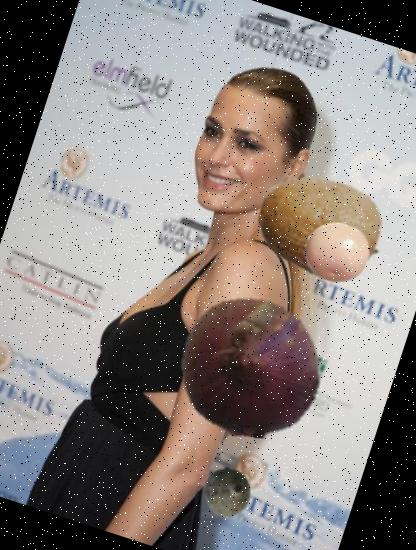Beetroot: (195, 459, 261, 525)
Grapefruit: (296, 212, 378, 294)
Kiwi: (240, 148, 400, 307)
Onion: (160, 277, 340, 457)
